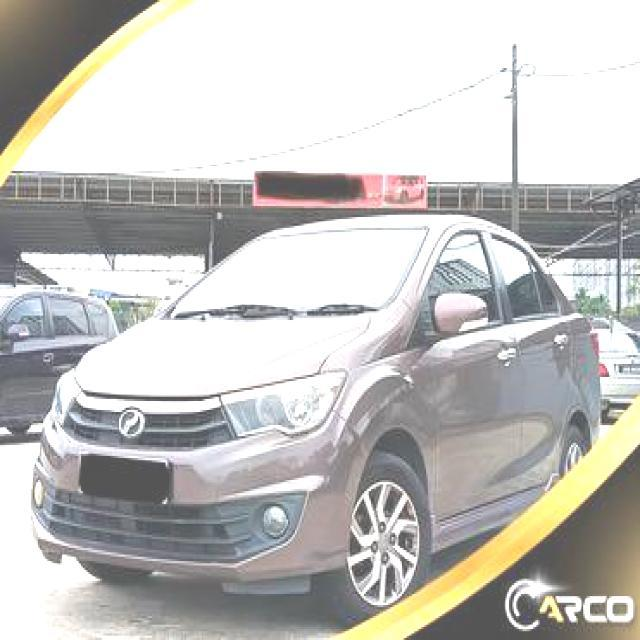PeroduaBezza: (29, 209, 602, 625)
